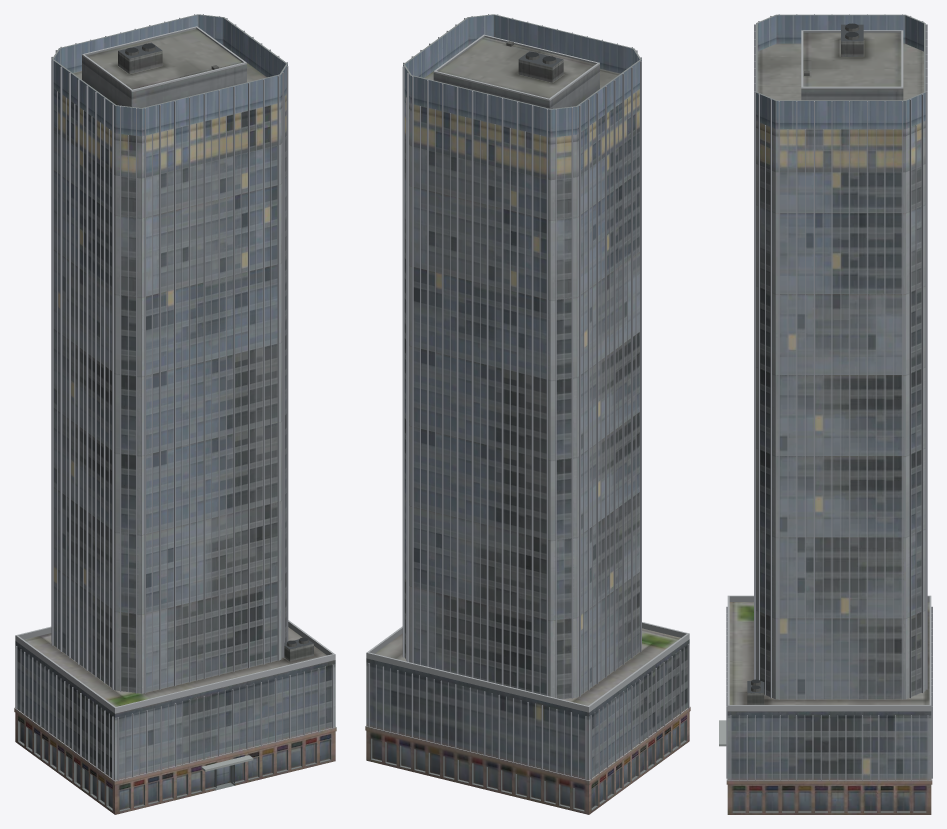
File: nyc_glasstower_a.glb
The picture shows the model from 3 angles, left to right: view 1: azimuth 30°, elevation 25°; view 2: azimuth 150°, elevation 25°; view 3: azimuth 270°, elevation 25°; orthographic projection. The views are drawn at different scales.
Visible parts, largest first — view 1: nyc_glasstower_a; view 2: nyc_glasstower_a; view 3: nyc_glasstower_a.
Part boxes in pixels (left/top/right/bottom): nyc_glasstower_a: left=14, top=14, right=336, bottom=814; nyc_glasstower_a: left=365, top=14, right=690, bottom=814; nyc_glasstower_a: left=719, top=14, right=932, bottom=814.
Size of the model in its own units: 46.47 by 140 by 37.73.
1 material, 1 textured.
